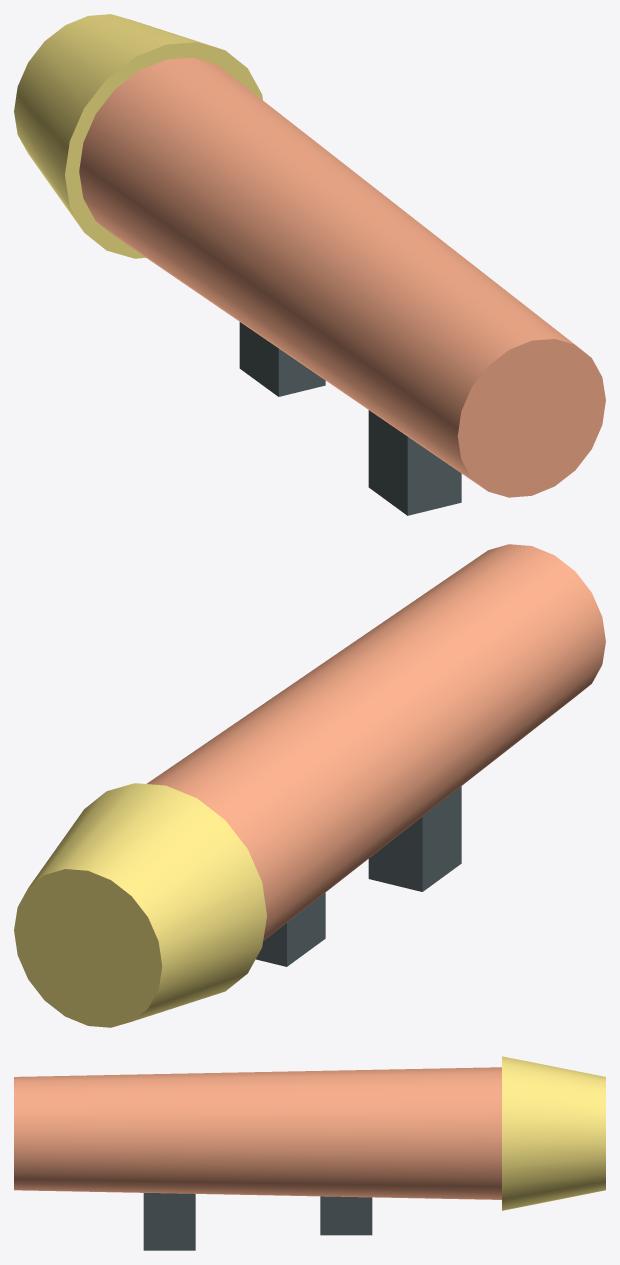
Rendered from item_konfeti_bazuka.glb.
3 views of the same model, one above another, from view 1: azimuth 30°, elevation 25°; view 2: azimuth 150°, elevation 25°; view 3: azimuth 270°, elevation 25° (orthographic). The views are drawn at different scales.
Parts seen in each view (by area): view 1: konfeti_bazuka; view 2: konfeti_bazuka; view 3: konfeti_bazuka.
Part boxes in pixels (x1,y1,x2,y2): konfeti_bazuka: (14,14,605,515); konfeti_bazuka: (14,544,605,1027); konfeti_bazuka: (14,1056,605,1250).
Size of the model in its own units: 0.15 by 0.19 by 0.57.
